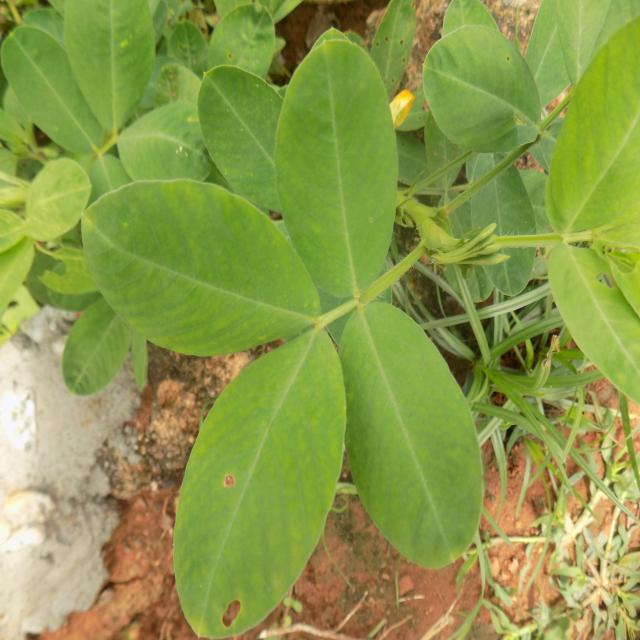Ground nut_healthy: (80, 175, 316, 358), (275, 42, 401, 298)
